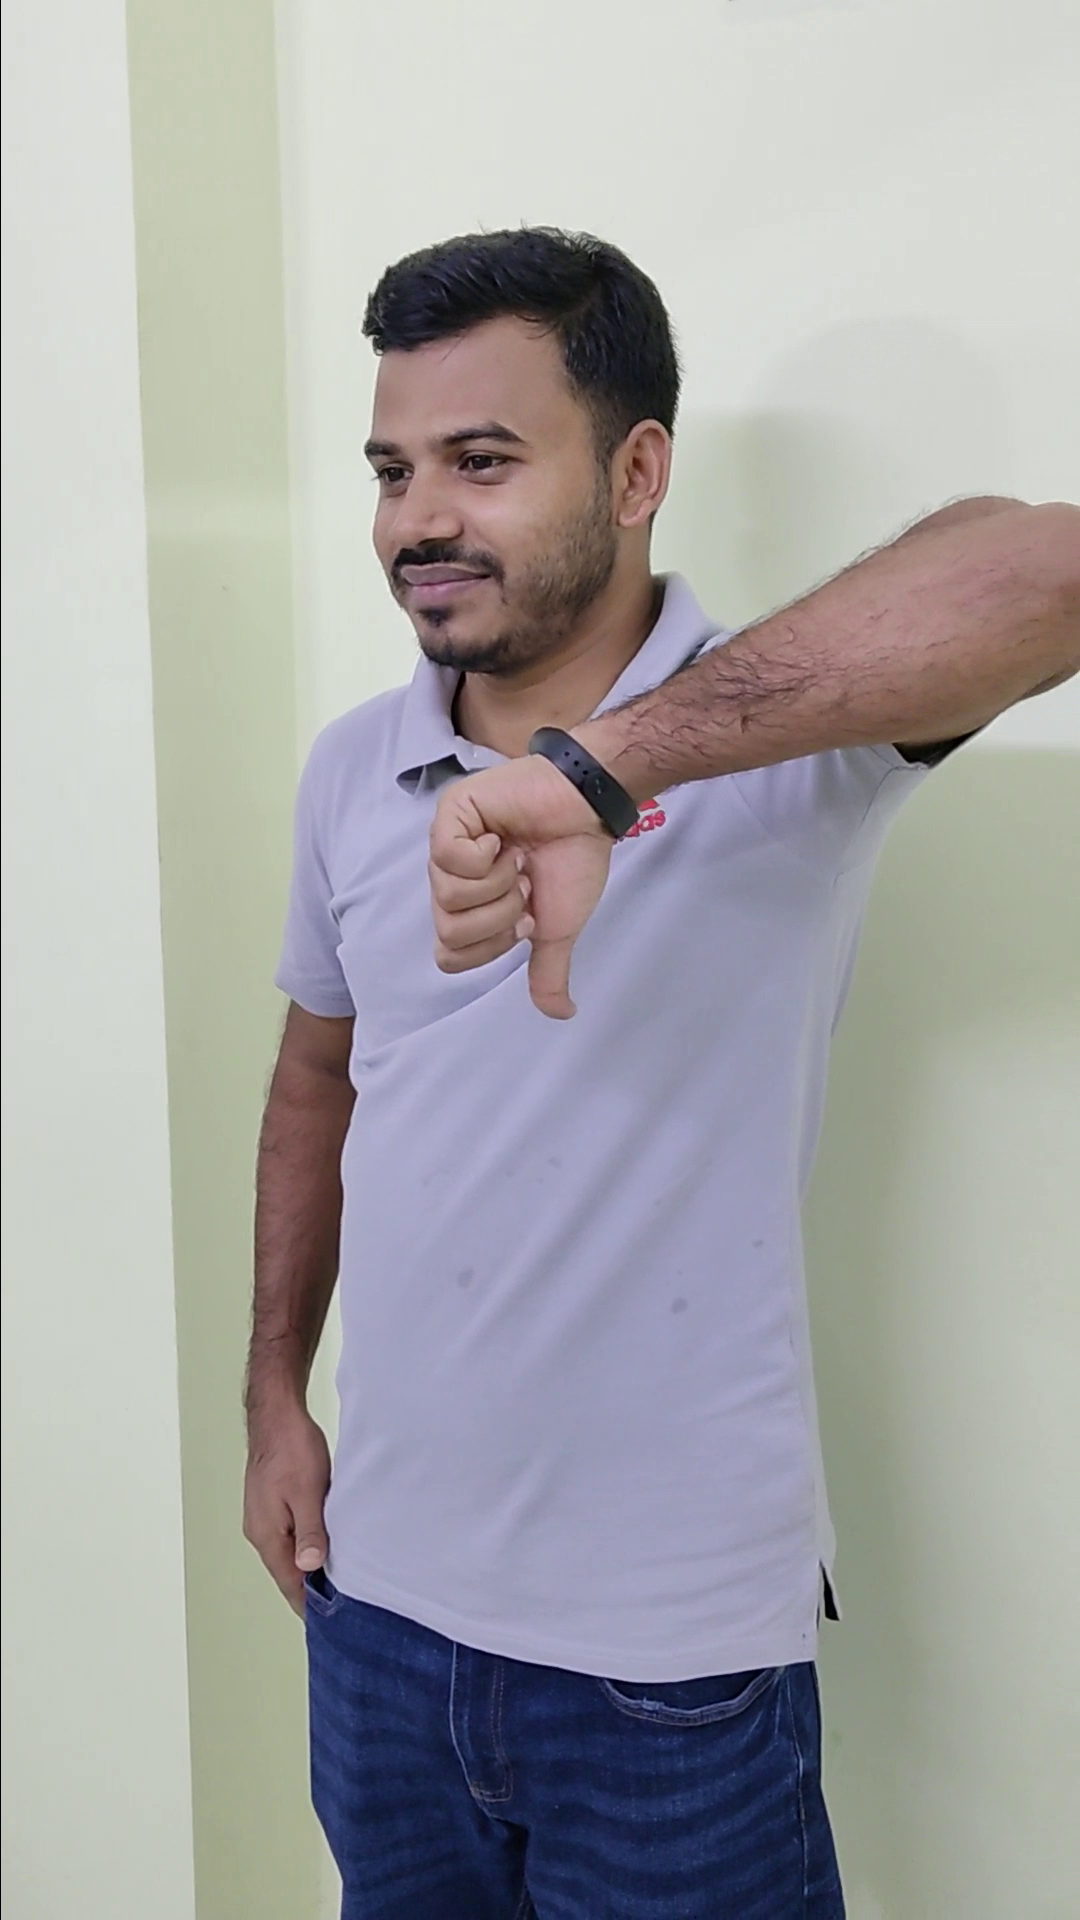Dislike: (400, 713, 630, 1039)
None: (216, 1348, 363, 1640)
